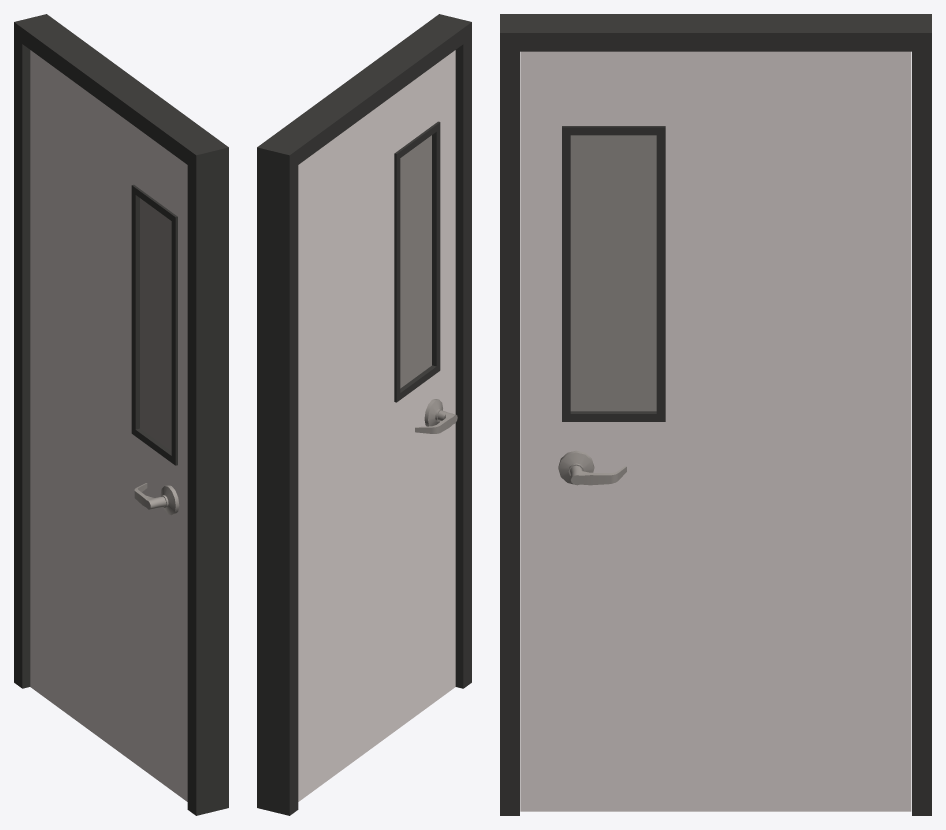
Rendered from Door.fbx.
The picture shows the model from 3 angles, left to right: view 1: azimuth 30°, elevation 25°; view 2: azimuth 150°, elevation 25°; view 3: azimuth 270°, elevation 25°; orthographic projection. The views are drawn at different scales.
Visible parts, largest first — view 1: Door; view 2: Door; view 3: Door.
Boxes of the visible parts, x1,y1,x2,y2 form: Door: (14, 14, 228, 815); Door: (257, 14, 471, 815); Door: (500, 14, 931, 815).
Bounding box in the file's own units: 21.53 × 213 × 107.
